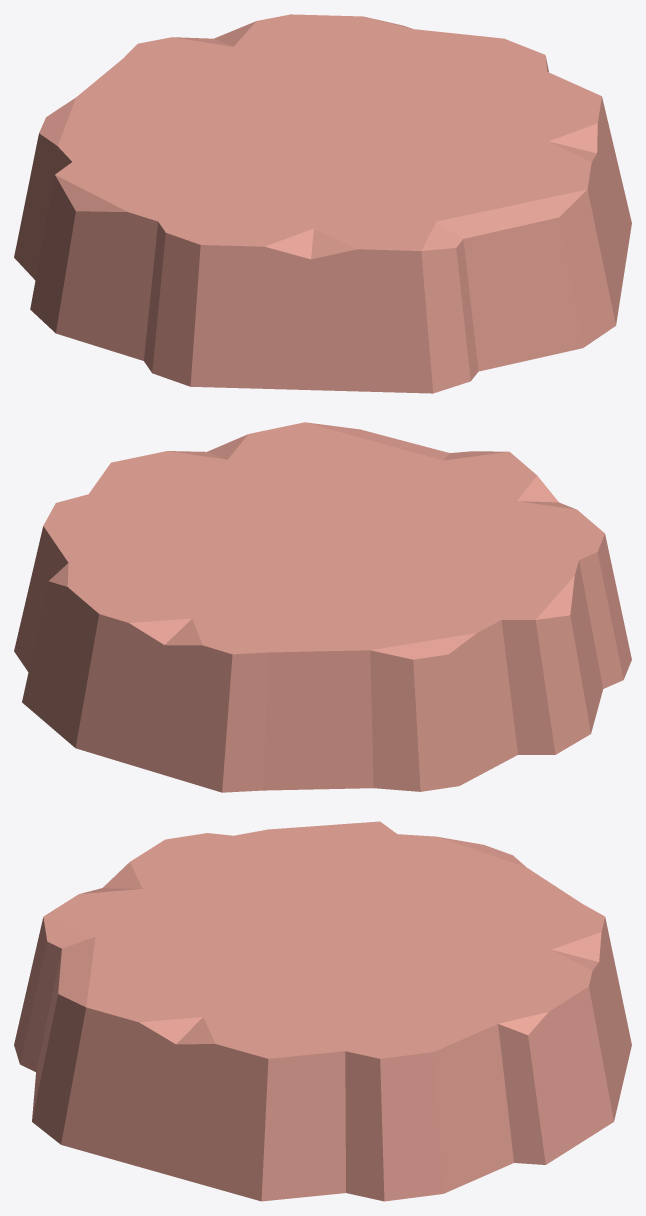
File: Cylinder_007_Vlad.fbx
3 renders of one model, top to bottom at view 1: azimuth 30°, elevation 25°; view 2: azimuth 150°, elevation 25°; view 3: azimuth 270°, elevation 25°, orthographic. The views are drawn at different scales.
Parts seen in each view (by area): view 1: Cylinder.007; view 2: Cylinder.007; view 3: Cylinder.007.
Boxes of the visible parts, left/top/right/bottom form: Cylinder.007: left=14, top=14, right=631, bottom=393; Cylinder.007: left=14, top=422, right=631, bottom=792; Cylinder.007: left=14, top=821, right=631, bottom=1201.
Size of the model in its own units: 436 by 100 by 432.
